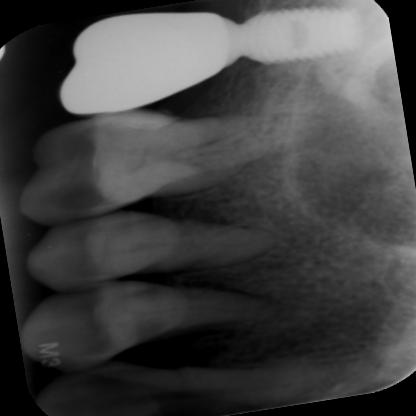Bicon: (254, 0, 374, 71)
